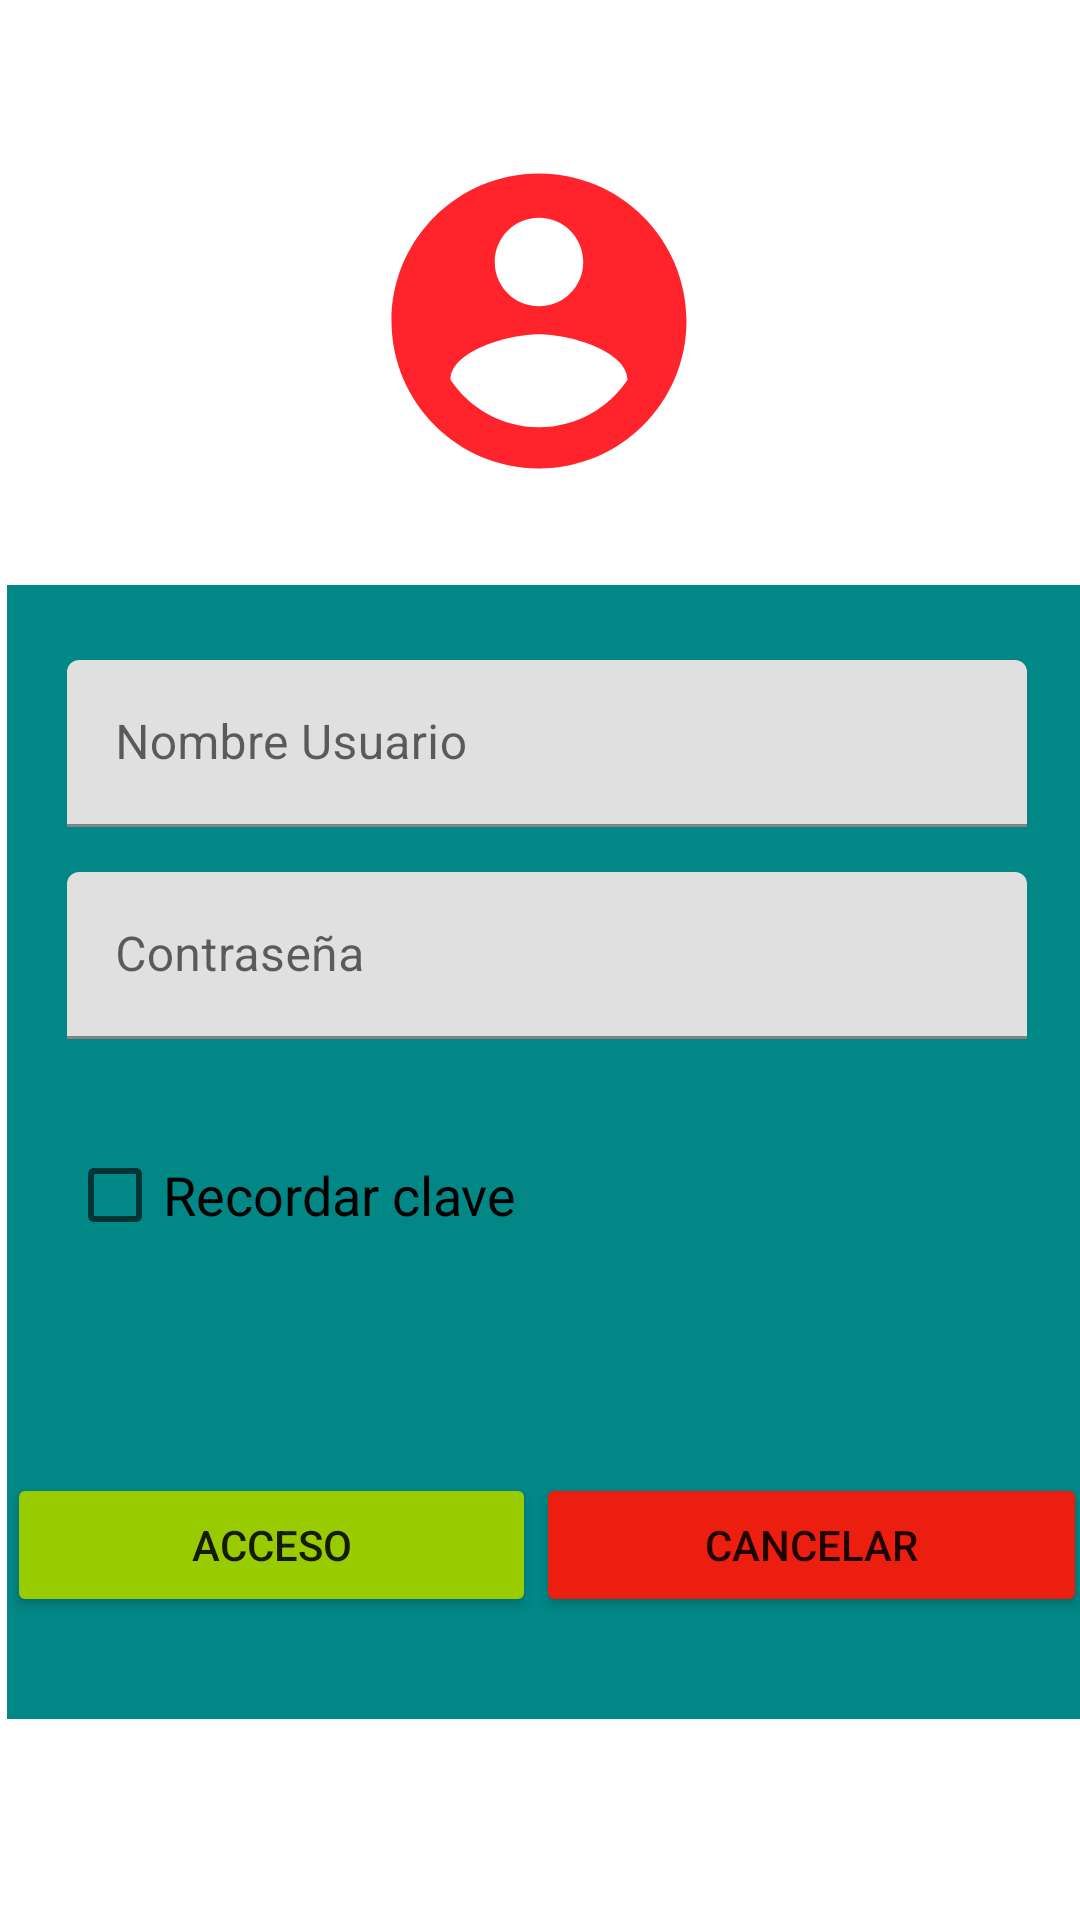

Named icons in this screenshot (1080*1920) and their centers, point (x, y):
user: point (539, 321)
